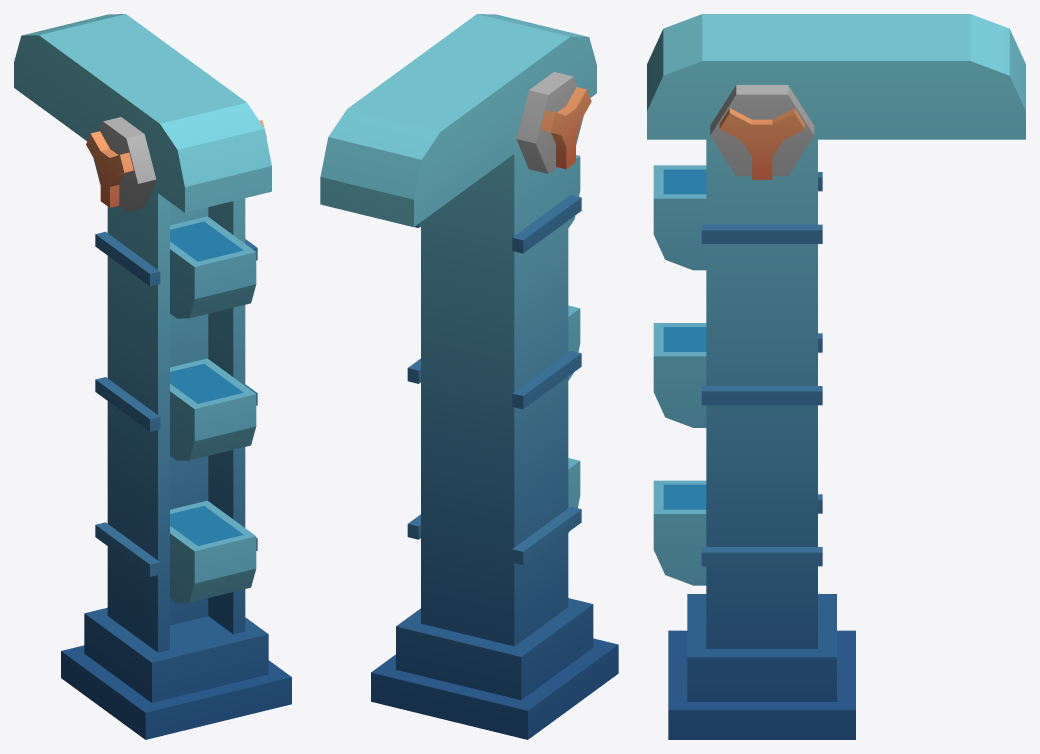
Rendered from grain processing machine 2.fbx.
The picture shows the model from 3 angles, left to right: view 1: azimuth 30°, elevation 25°; view 2: azimuth 150°, elevation 25°; view 3: azimuth 270°, elevation 25°; orthographic projection. The views are drawn at different scales.
Visible parts, largest first — view 1: grain_processing_machine_2; view 2: grain_processing_machine_2; view 3: grain_processing_machine_2, gear_rotate_2.
Boxes of the visible parts, <box> form: grain_processing_machine_2: <box>14,14,291,739</box>; grain_processing_machine_2: <box>320,14,618,739</box>; grain_processing_machine_2: <box>647,14,1025,739</box>; gear_rotate_2: <box>710,85,814,179</box>.
Size of the model in its own units: 232 by 904 by 468.
Materials: 1 (1 with a texture image).
